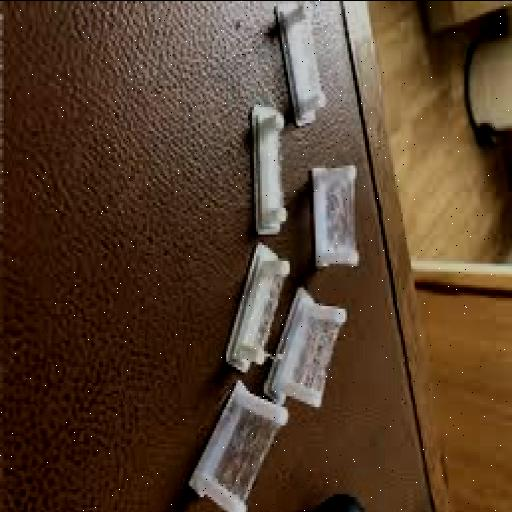stringing: (215, 415, 280, 498), (295, 327, 339, 392), (254, 278, 283, 350), (328, 183, 358, 247), (272, 131, 285, 205)
